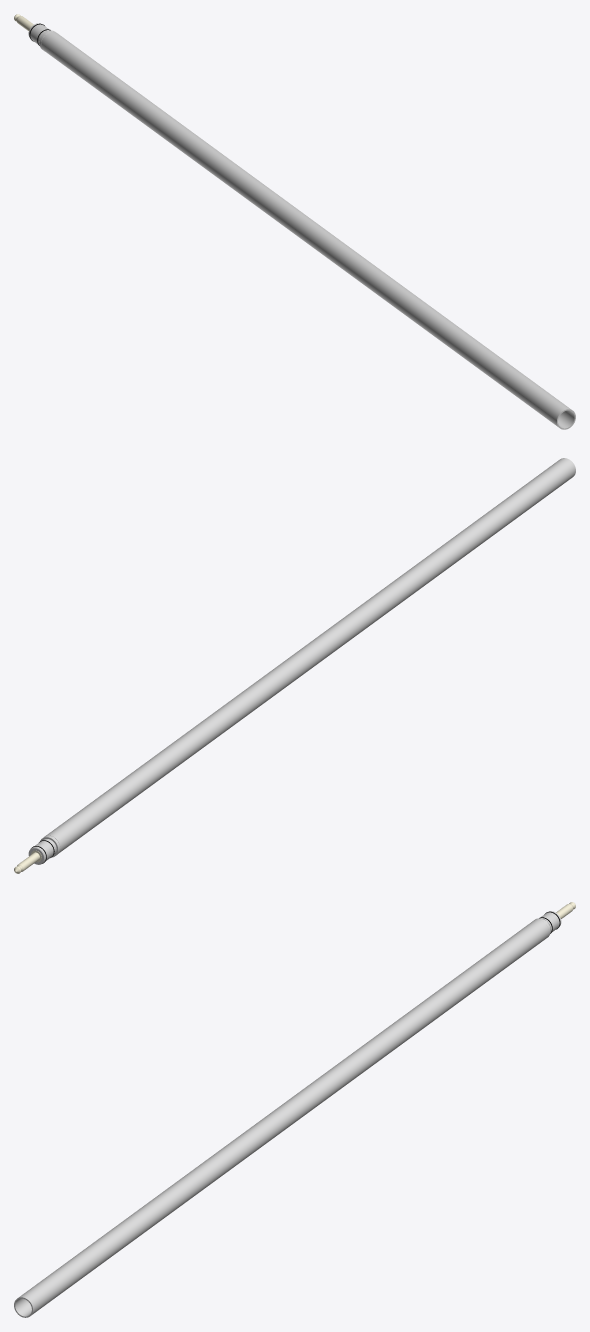
File: InterTube750.glb
3 renders of one model, top to bottom at view 1: azimuth 30°, elevation 25°; view 2: azimuth 150°, elevation 25°; view 3: azimuth 330°, elevation 25°, orthographic.
Parts seen in each view (by area): view 1: Body2.020; view 2: Body2.020; view 3: Body2.020.
Boxes of the visible parts, <box> form: Body2.020: <box>14,14,575,429</box>; Body2.020: <box>14,458,575,873</box>; Body2.020: <box>14,902,575,1317</box>.
Bounding box in the file's own units: 0.1607 × 0.1603 × 7.98.
